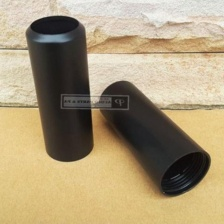bottle: (95, 77, 215, 201), (25, 13, 92, 164)
